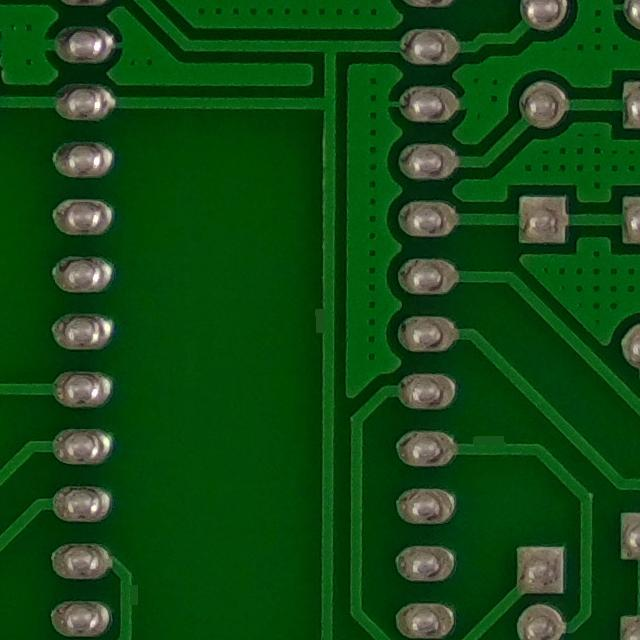spur: (300, 295, 341, 345)
